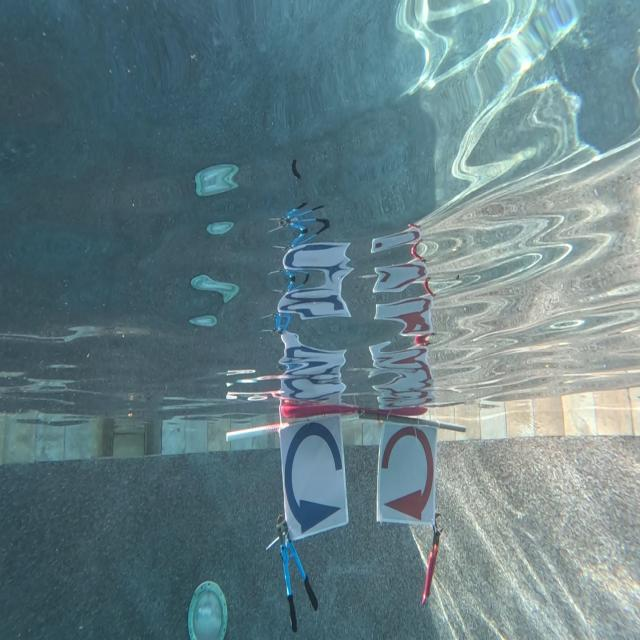blue_side: (282, 418, 348, 529)
red_side: (378, 426, 434, 521)
